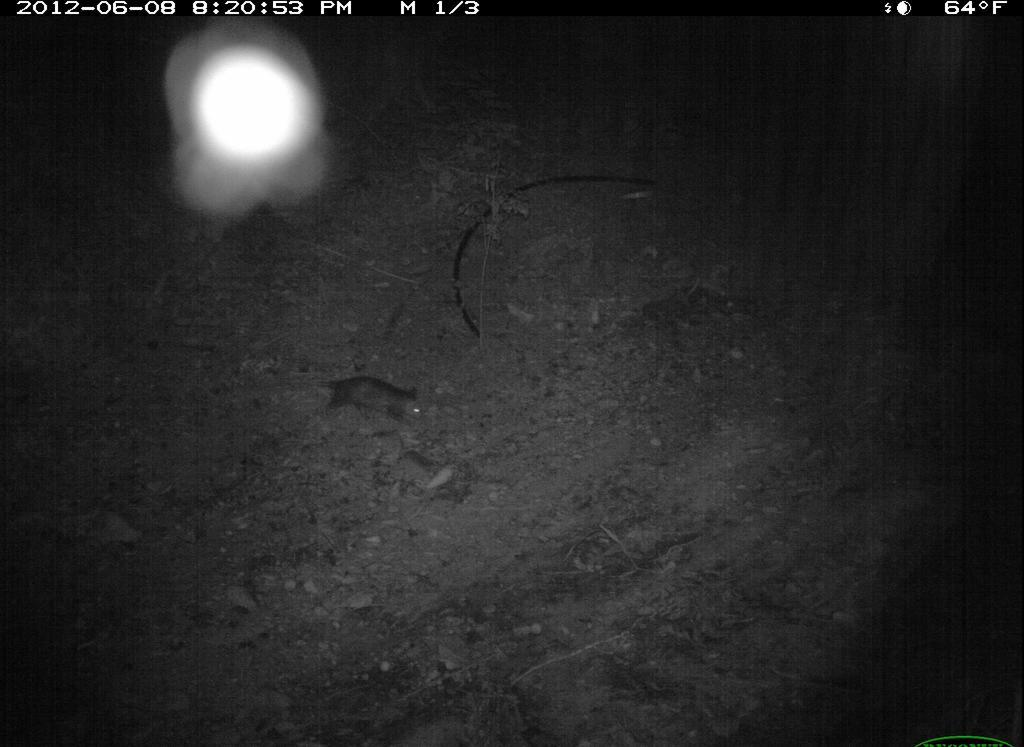opossum: (292, 367, 436, 438)
